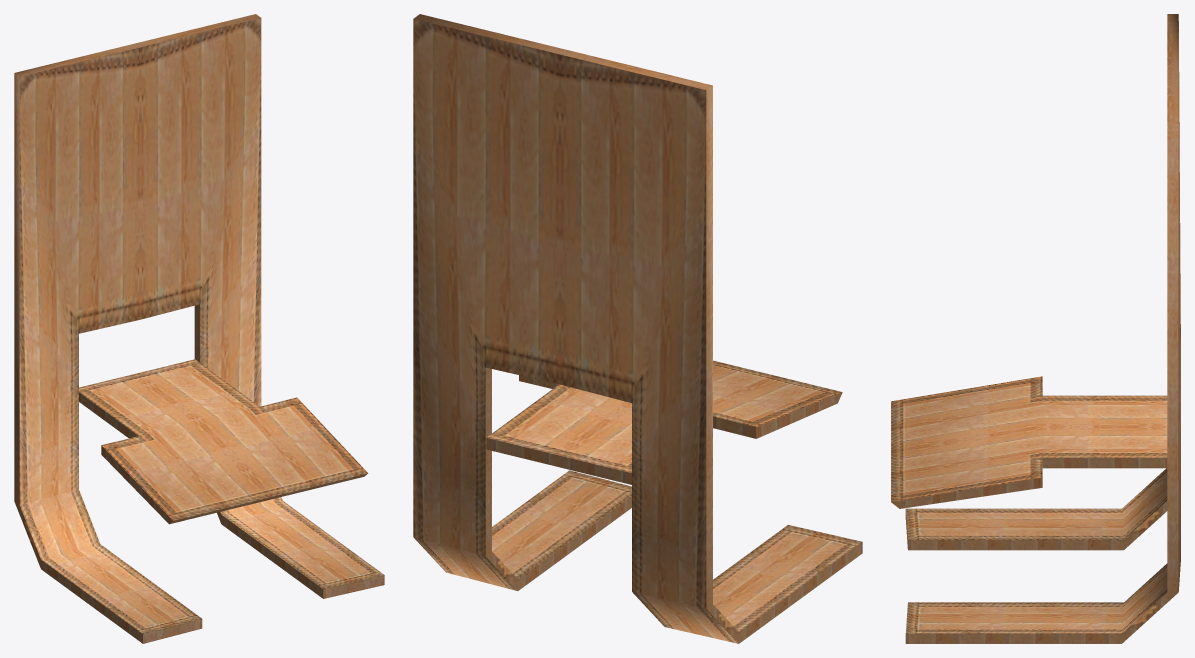
The model's file is frn_all_chair_wooden_s1_l2.fbx.
The picture shows the model from 3 angles, left to right: view 1: azimuth 30°, elevation 25°; view 2: azimuth 150°, elevation 25°; view 3: azimuth 270°, elevation 25°; orthographic projection. The views are drawn at different scales.
Visible parts, largest first — view 1: mesh_node; view 2: mesh_node; view 3: mesh_node.
Boxes of the visible parts, x1,y1,x2,y2 form: mesh_node: (14,14,384,643); mesh_node: (413,14,862,643); mesh_node: (891,14,1180,643).
Bounding box in the file's own units: 0.65 × 1.22 × 0.6369.
Materials: 1 (1 with a texture image).
